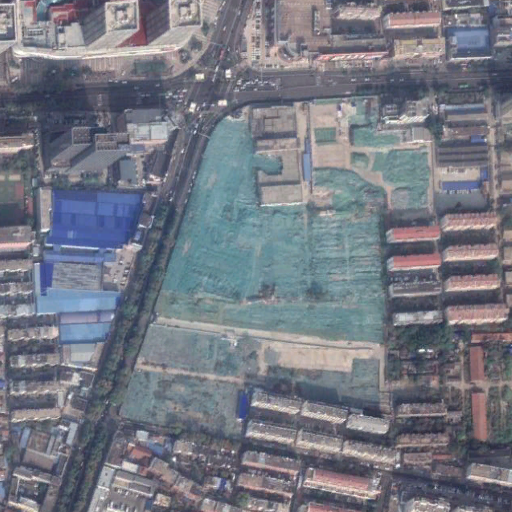cw: (114, 95, 434, 449)
